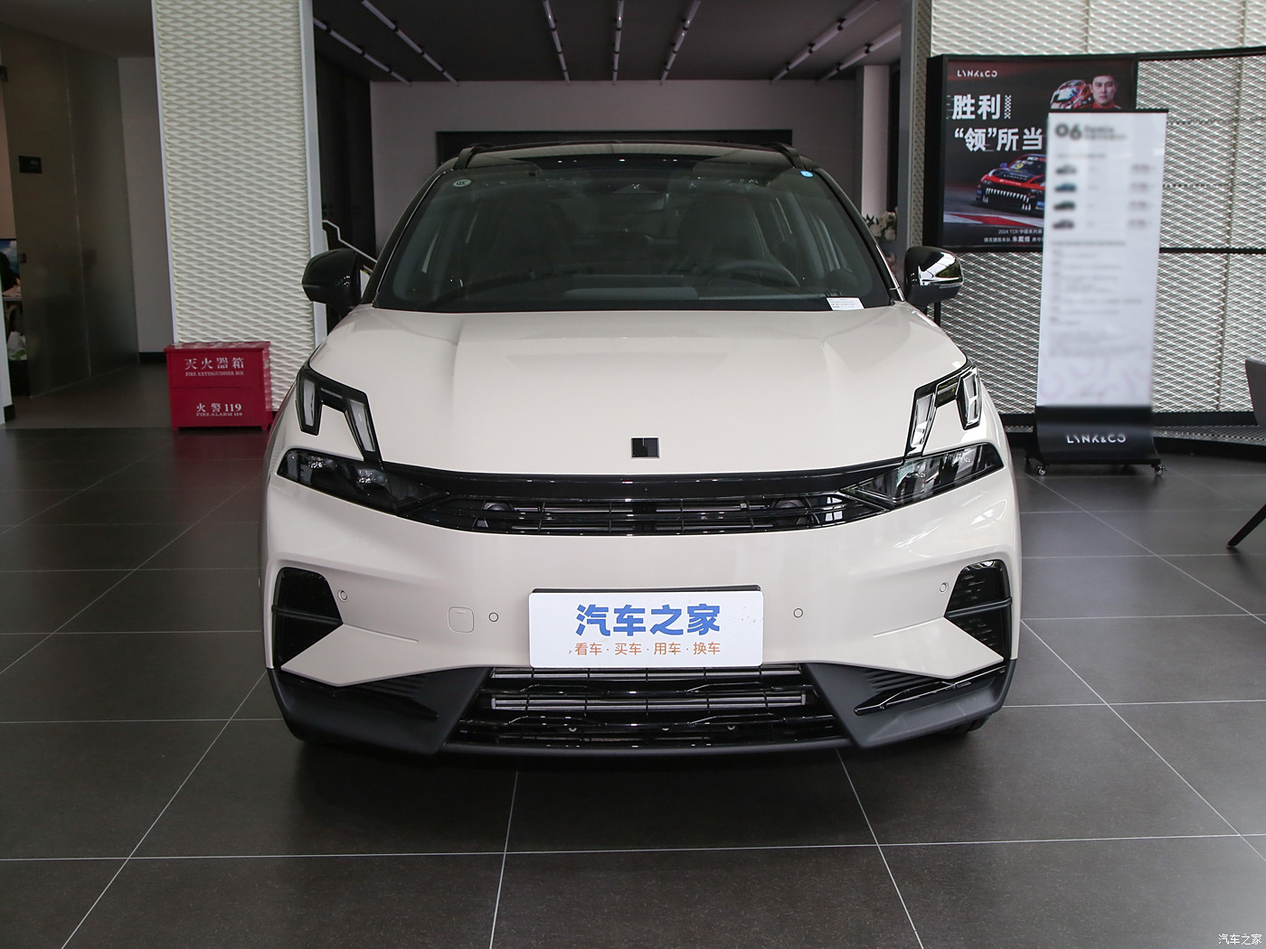LINK&CO: (632, 437, 659, 457)
